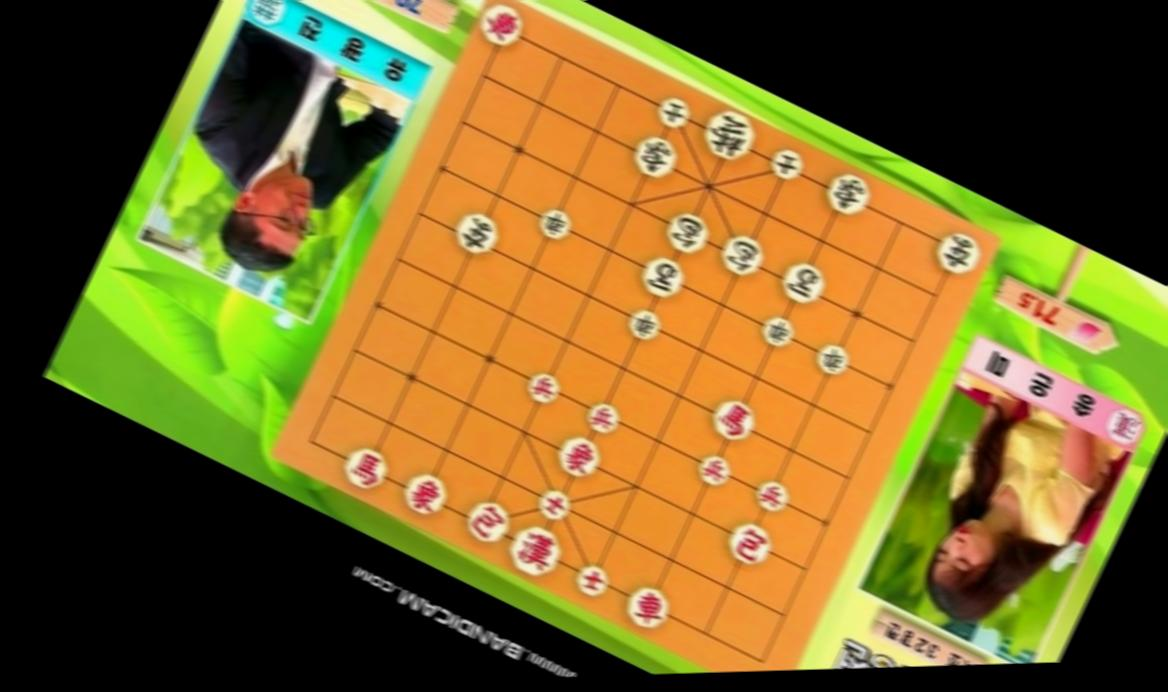cha_green: (445, 204, 507, 262), (931, 225, 988, 280)
cha_red: (620, 580, 677, 634), (473, 0, 530, 51)
jol_green: (533, 201, 579, 244), (623, 303, 668, 344), (810, 339, 855, 379), (755, 311, 798, 351)
jol_red: (580, 394, 629, 438), (747, 474, 796, 518), (519, 364, 566, 408), (691, 448, 737, 492)
ma_green: (774, 255, 834, 311), (635, 249, 692, 304)
ma_red: (335, 441, 395, 495), (706, 394, 763, 446)
po_green: (658, 207, 716, 261), (714, 228, 771, 281)
po_red: (457, 494, 518, 550), (719, 514, 778, 569)
sa_green: (651, 92, 696, 132), (765, 143, 809, 183)
sa_red: (530, 482, 579, 526), (568, 557, 616, 601)
sang_green: (818, 166, 877, 221), (628, 128, 686, 183)
sang_red: (398, 465, 455, 520), (550, 429, 608, 482)
wang_green: (696, 105, 762, 167)
wang_red: (502, 517, 569, 579)
